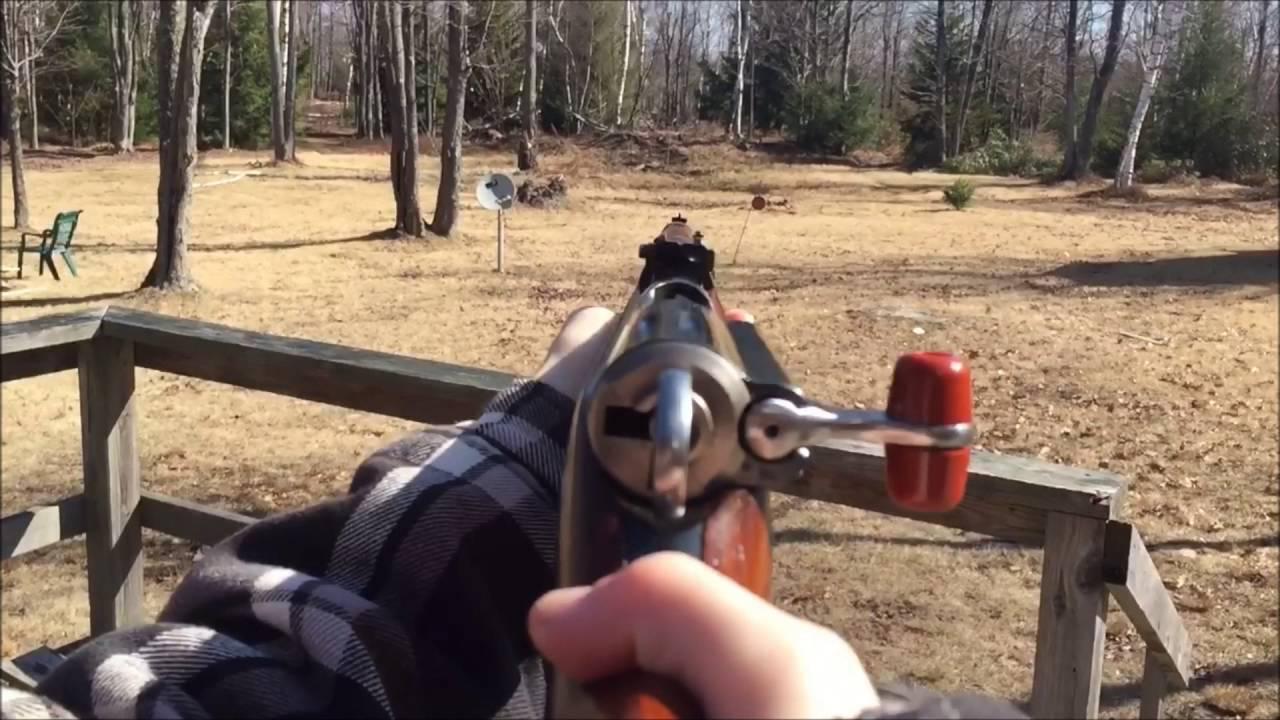Gun: (550, 182, 818, 459)
